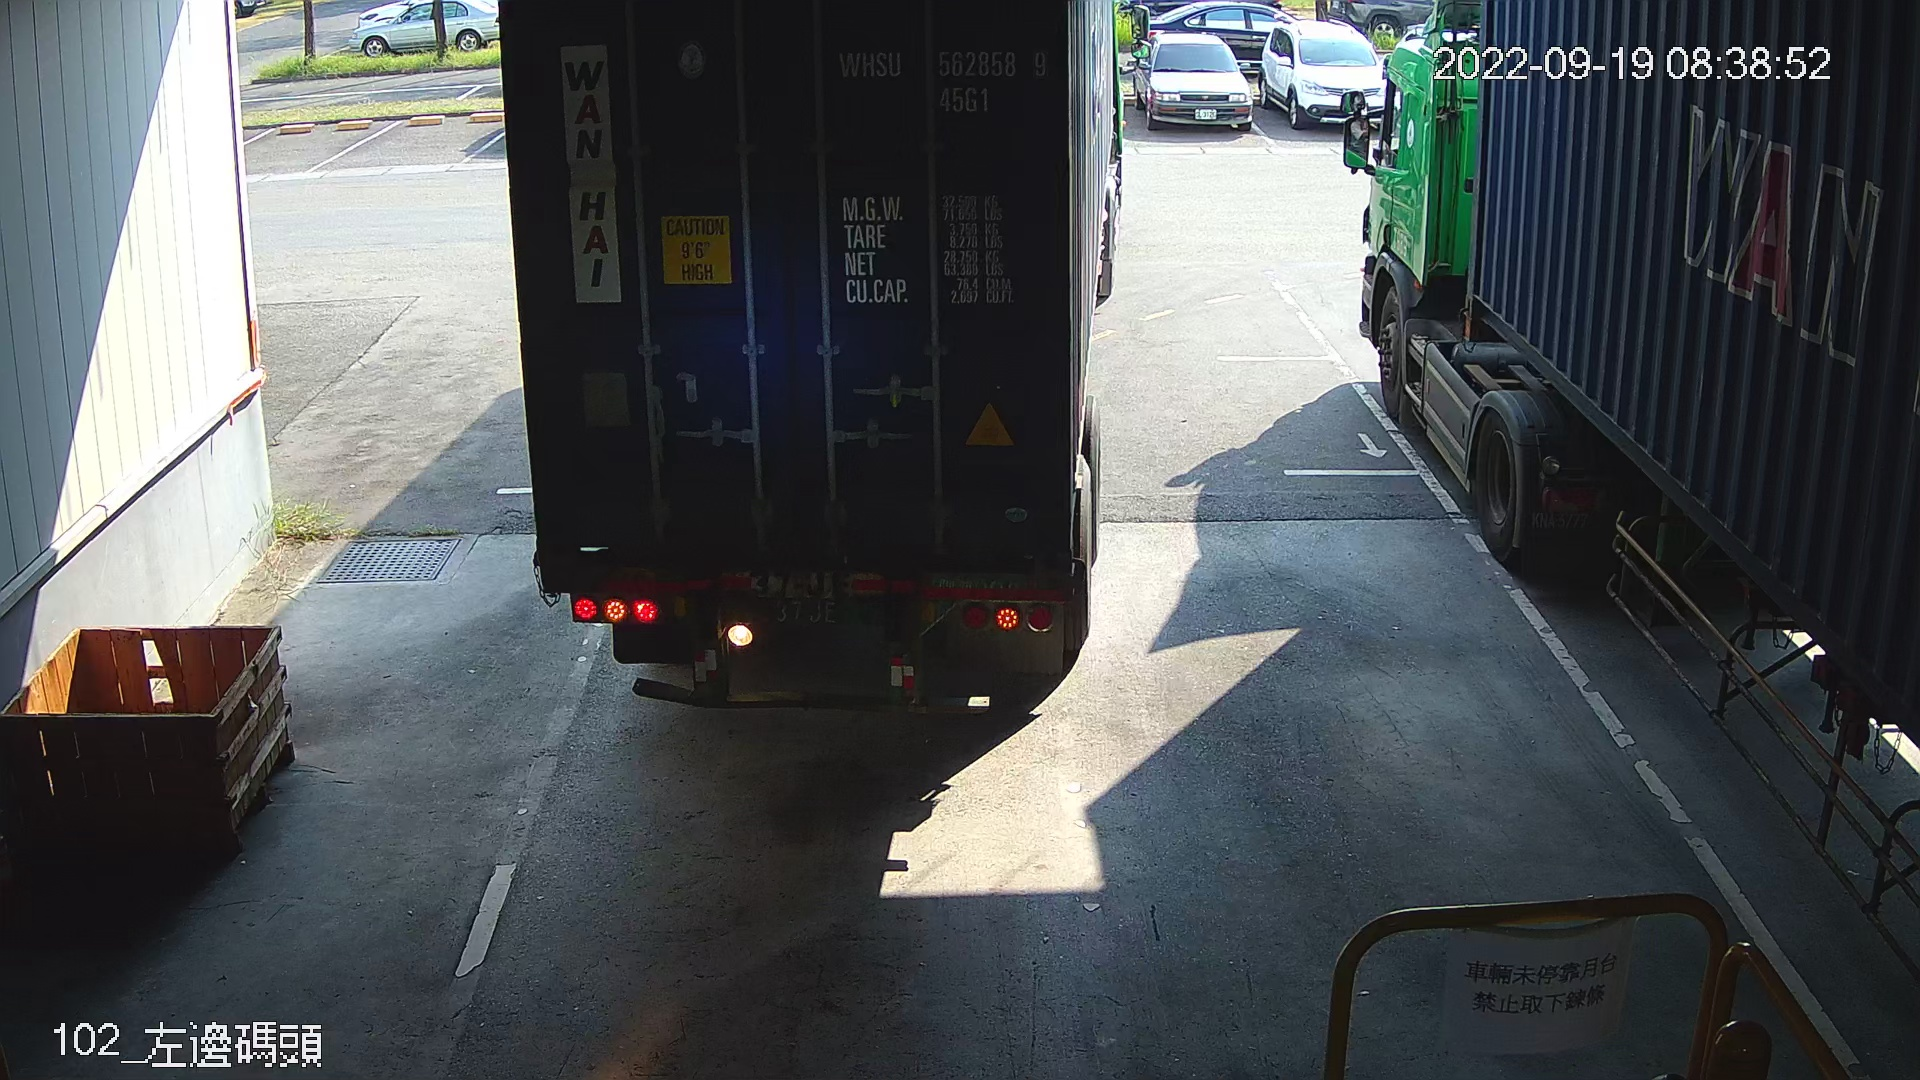container: (828, 33, 1058, 127)
